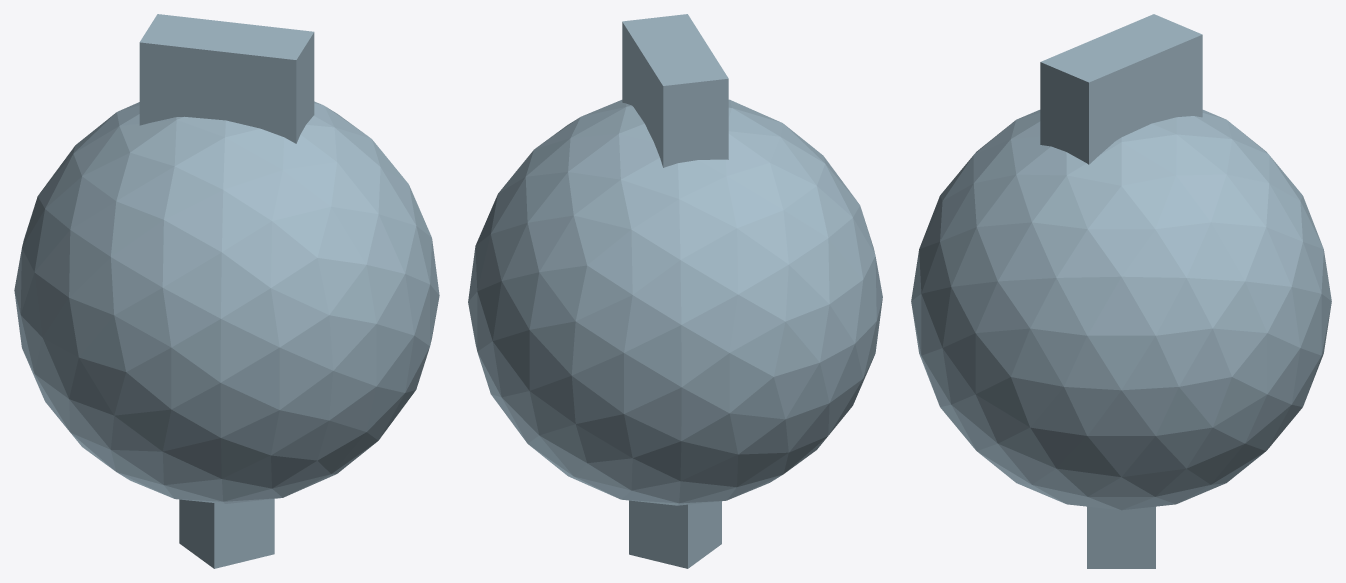
Rendered from tech_130.glb.
The picture shows the model from 3 angles, left to right: view 1: azimuth 30°, elevation 25°; view 2: azimuth 150°, elevation 25°; view 3: azimuth 270°, elevation 25°; orthographic projection. The views are drawn at different scales.
Parts seen in each view (by area): view 1: world; view 2: world; view 3: world.
Boxes of the visible parts, bbox=[...] form: world: bbox=[14, 14, 439, 568]; world: bbox=[468, 14, 882, 568]; world: bbox=[911, 14, 1331, 568].
Bounding box in the file's own units: 1.1 × 1.46 × 1.1.
